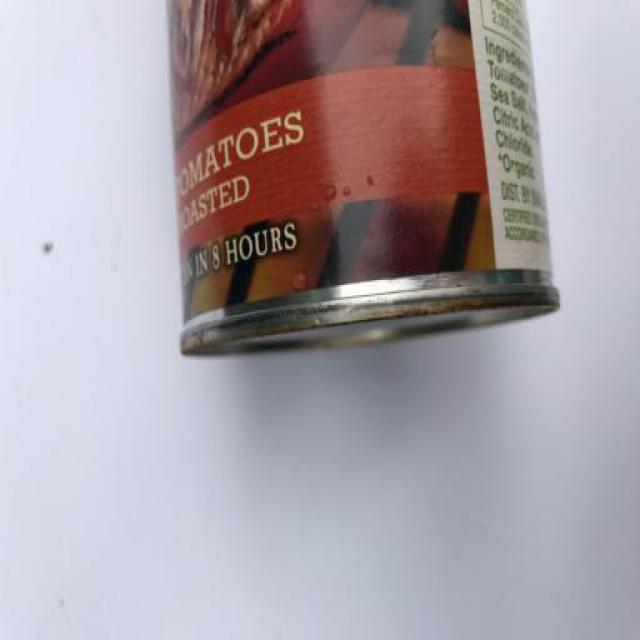metel: (167, 1, 575, 328)
